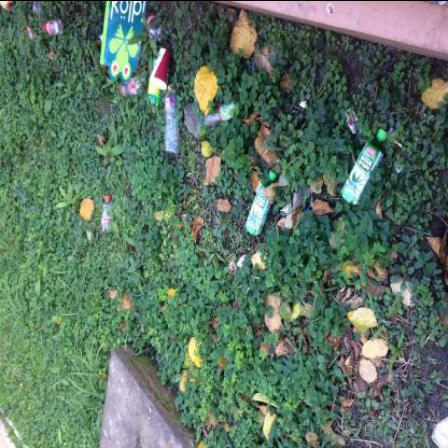Bottle: (342, 129, 388, 207), (247, 172, 279, 238), (165, 86, 180, 153), (204, 102, 236, 128), (148, 12, 164, 42), (121, 76, 141, 98), (148, 81, 163, 109), (103, 196, 114, 232), (44, 19, 64, 35), (33, 2, 43, 14)
Bottle cap: (105, 196, 111, 200), (169, 85, 171, 89)
Carton: (27, 26, 36, 40)
Cigarette: (395, 140, 405, 148)
Cup: (151, 49, 174, 91)
Paper: (301, 101, 308, 109)
Plastic bag - wrapper: (346, 109, 362, 135), (281, 202, 293, 217)
Unlabeled litter: (101, 1, 149, 83), (2, 1, 16, 11)
